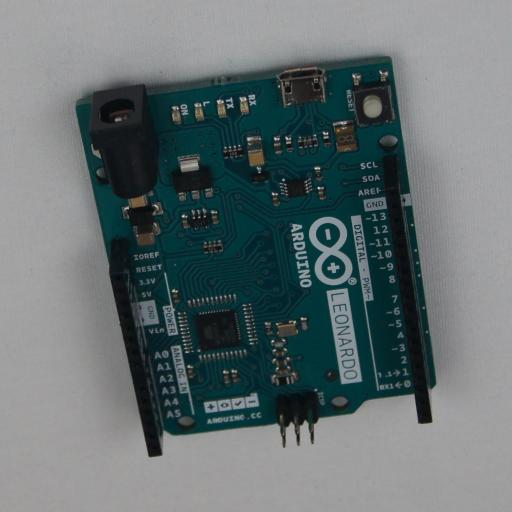Arduino Leonardo: (76, 56, 436, 457)
